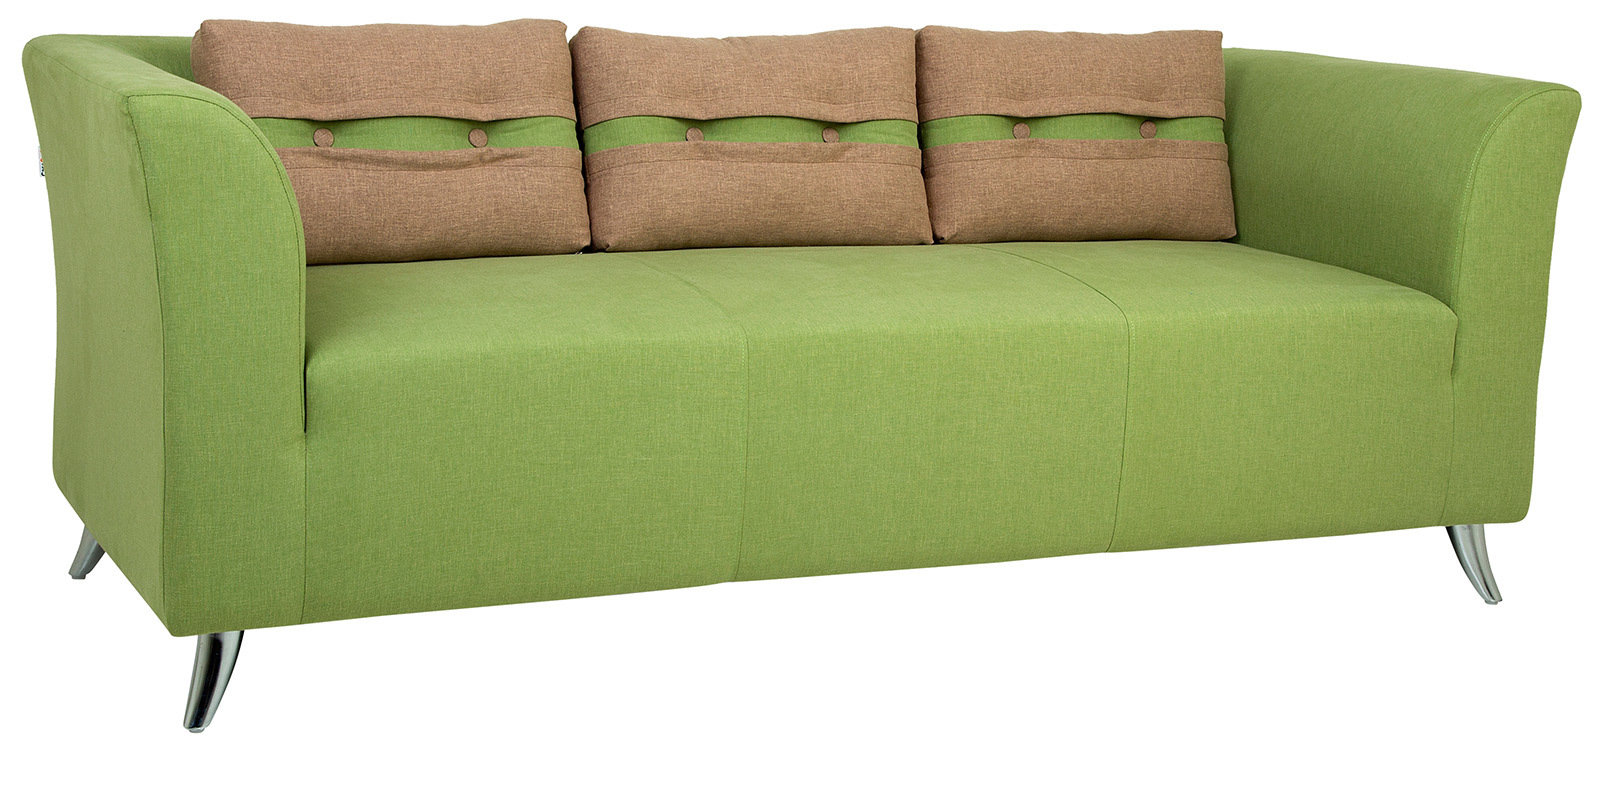Iowa Three Seater Sofa in Pear Green Colour by Furnitech: (22, 10, 1592, 745)
